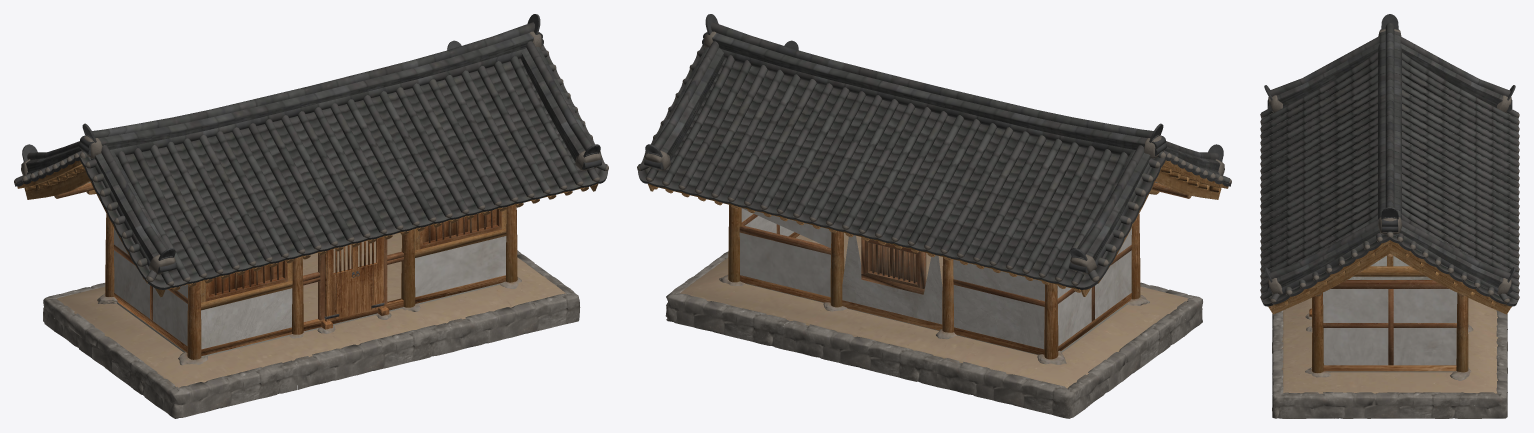
File: haengnangchae.glb
3 views of the same model, side by side, from view 1: azimuth 30°, elevation 25°; view 2: azimuth 150°, elevation 25°; view 3: azimuth 270°, elevation 25° (orthographic). The views are drawn at different scales.
Parts seen in each view (by area): view 1: SM_24ET0025_Roof02_M_24ET0025_Roof02_0, SM_24ET0025_Roof02_M_24ET0025_Roof01_0, SM_24ET0025_Stereobate_M_24ET0025_Stereobate_0, SM_24ET0025_Floor_M_24ET0025_Floor_0, SM_24ET0025_Roof01_M_24ET0025_Roof03_0, SM_24ET0025_Roof03_M_24ET0025_Roof03_0, SM_24ET0025_Wall01_M_24ET0025_Wall01_0, SM_24ET0025_Wall02_M_24ET0025_Wall02_0, SM_24ET0025_Wallwood01_M_24ET0025_Wallwood01_0, SM_24ET0025_Pillar01_M_24ET0025_Pillar01_0, SM_24ET0025_Door01_M_24ET0025_Door_0, SM_24ET0025_Winframe_M_24ET0025_Winframe_0 (+13 smaller); view 2: SM_24ET0025_Roof02_M_24ET0025_Roof02_0, SM_24ET0025_Roof02_M_24ET0025_Roof01_0, SM_24ET0025_Stereobate_M_24ET0025_Stereobate_0, SM_24ET0025_Floor_M_24ET0025_Floor_0, SM_24ET0025_Wall01_M_24ET0025_Wall01_0, SM_24ET0025_Roof01_M_24ET0025_Roof03_0, SM_24ET0025_Roof03_M_24ET0025_Roof03_0, SM_24ET0025_Wall02_M_24ET0025_Wall02_0, SM_24ET0025_Window02_M_24ET0025_Window02_0, SM_24ET0025_Wallwood01_M_24ET0025_Wallwood01_0, SM_24ET0025_Pillar01_M_24ET0025_Pillar01_0, SM_24ET0025_Pillar02_M_24ET0025_Pillar02_0 (+9 smaller); view 3: SM_24ET0025_Roof02_M_24ET0025_Roof01_0, SM_24ET0025_Wall02_M_24ET0025_Wall02_0, SM_24ET0025_Roof03_M_24ET0025_Roof03_0, SM_24ET0025_Floor_M_24ET0025_Floor_0, SM_24ET0025_Stereobate_M_24ET0025_Stereobate_0, SM_24ET0025_Roof02_M_24ET0025_Roof02_0, SM_24ET0025_Roof01_M_24ET0025_Roof03_0, SM_24ET0025_Bakgong_M_24ET0025_Bakgong_0, SM_24ET0025_Wallwood02_M_24ET0025_Wallwood02_0, SM_24ET0025_Pillar02_M_24ET0025_Pillar02_0, SM_24ET0025_Roof04_M_24ET0025_Roof02_0, SM_24ET0025_Roof04_M_24ET0025_Roof01_0 (+7 smaller).
Boxes of the visible parts, x1=… form: SM_24ET0025_Roof02_M_24ET0025_Roof02_0: x1=117, y1=58, x2=597, y2=287; SM_24ET0025_Roof02_M_24ET0025_Roof01_0: x1=117, y1=56, x2=599, y2=285; SM_24ET0025_Stereobate_M_24ET0025_Stereobate_0: x1=43, y1=250, x2=580, y2=418; SM_24ET0025_Floor_M_24ET0025_Floor_0: x1=57, y1=233, x2=565, y2=387; SM_24ET0025_Roof01_M_24ET0025_Roof03_0: x1=79, y1=22, x2=541, y2=156; SM_24ET0025_Roof03_M_24ET0025_Roof03_0: x1=25, y1=41, x2=601, y2=272; SM_24ET0025_Wall01_M_24ET0025_Wall01_0: x1=114, y1=228, x2=292, y2=349; SM_24ET0025_Wall02_M_24ET0025_Wall02_0: x1=415, y1=236, x2=506, y2=296; SM_24ET0025_Wallwood01_M_24ET0025_Wallwood01_0: x1=114, y1=275, x2=505, y2=355; SM_24ET0025_Pillar01_M_24ET0025_Pillar01_0: x1=105, y1=214, x2=303, y2=359; SM_24ET0025_Door01_M_24ET0025_Door_0: x1=325, y1=245, x2=355, y2=321; SM_24ET0025_Winframe_M_24ET0025_Winframe_0: x1=200, y1=209, x2=506, y2=310; SM_24ET0025_Roof02_M_24ET0025_Roof02_0: x1=648, y1=58, x2=1128, y2=287; SM_24ET0025_Roof02_M_24ET0025_Roof01_0: x1=645, y1=55, x2=1128, y2=285; SM_24ET0025_Stereobate_M_24ET0025_Stereobate_0: x1=665, y1=251, x2=1202, y2=418; SM_24ET0025_Floor_M_24ET0025_Floor_0: x1=680, y1=233, x2=1187, y2=388; SM_24ET0025_Wall01_M_24ET0025_Wall01_0: x1=842, y1=228, x2=1131, y2=349; SM_24ET0025_Roof01_M_24ET0025_Roof03_0: x1=704, y1=22, x2=1166, y2=156; SM_24ET0025_Roof03_M_24ET0025_Roof03_0: x1=644, y1=41, x2=1220, y2=272; SM_24ET0025_Wall02_M_24ET0025_Wall02_0: x1=739, y1=207, x2=831, y2=296; SM_24ET0025_Window02_M_24ET0025_Window02_0: x1=861, y1=237, x2=926, y2=294; SM_24ET0025_Wallwood01_M_24ET0025_Wallwood01_0: x1=740, y1=232, x2=1131, y2=354; SM_24ET0025_Pillar01_M_24ET0025_Pillar01_0: x1=942, y1=214, x2=1140, y2=359; SM_24ET0025_Pillar02_M_24ET0025_Pillar02_0: x1=728, y1=205, x2=844, y2=307; SM_24ET0025_Roof02_M_24ET0025_Roof01_0: x1=1260, y1=51, x2=1519, y2=300; SM_24ET0025_Wall02_M_24ET0025_Wall02_0: x1=1323, y1=289, x2=1457, y2=365; SM_24ET0025_Roof03_M_24ET0025_Roof03_0: x1=1267, y1=36, x2=1512, y2=293; SM_24ET0025_Floor_M_24ET0025_Floor_0: x1=1282, y1=298, x2=1498, y2=393; SM_24ET0025_Stereobate_M_24ET0025_Stereobate_0: x1=1272, y1=310, x2=1507, y2=418; SM_24ET0025_Roof02_M_24ET0025_Roof02_0: x1=1260, y1=59, x2=1519, y2=294; SM_24ET0025_Roof01_M_24ET0025_Roof03_0: x1=1378, y1=23, x2=1401, y2=231; SM_24ET0025_Bakgong_M_24ET0025_Bakgong_0: x1=1268, y1=240, x2=1511, y2=314; SM_24ET0025_Wallwood02_M_24ET0025_Wallwood02_0: x1=1323, y1=280, x2=1456, y2=365; SM_24ET0025_Pillar02_M_24ET0025_Pillar02_0: x1=1312, y1=292, x2=1468, y2=372; SM_24ET0025_Roof04_M_24ET0025_Roof02_0: x1=1261, y1=234, x2=1518, y2=304; SM_24ET0025_Roof04_M_24ET0025_Roof01_0: x1=1263, y1=231, x2=1516, y2=306.
Bounding box in the file's own units: 9.96 × 5.17 × 5.5.
28 materials, 28 textured.
